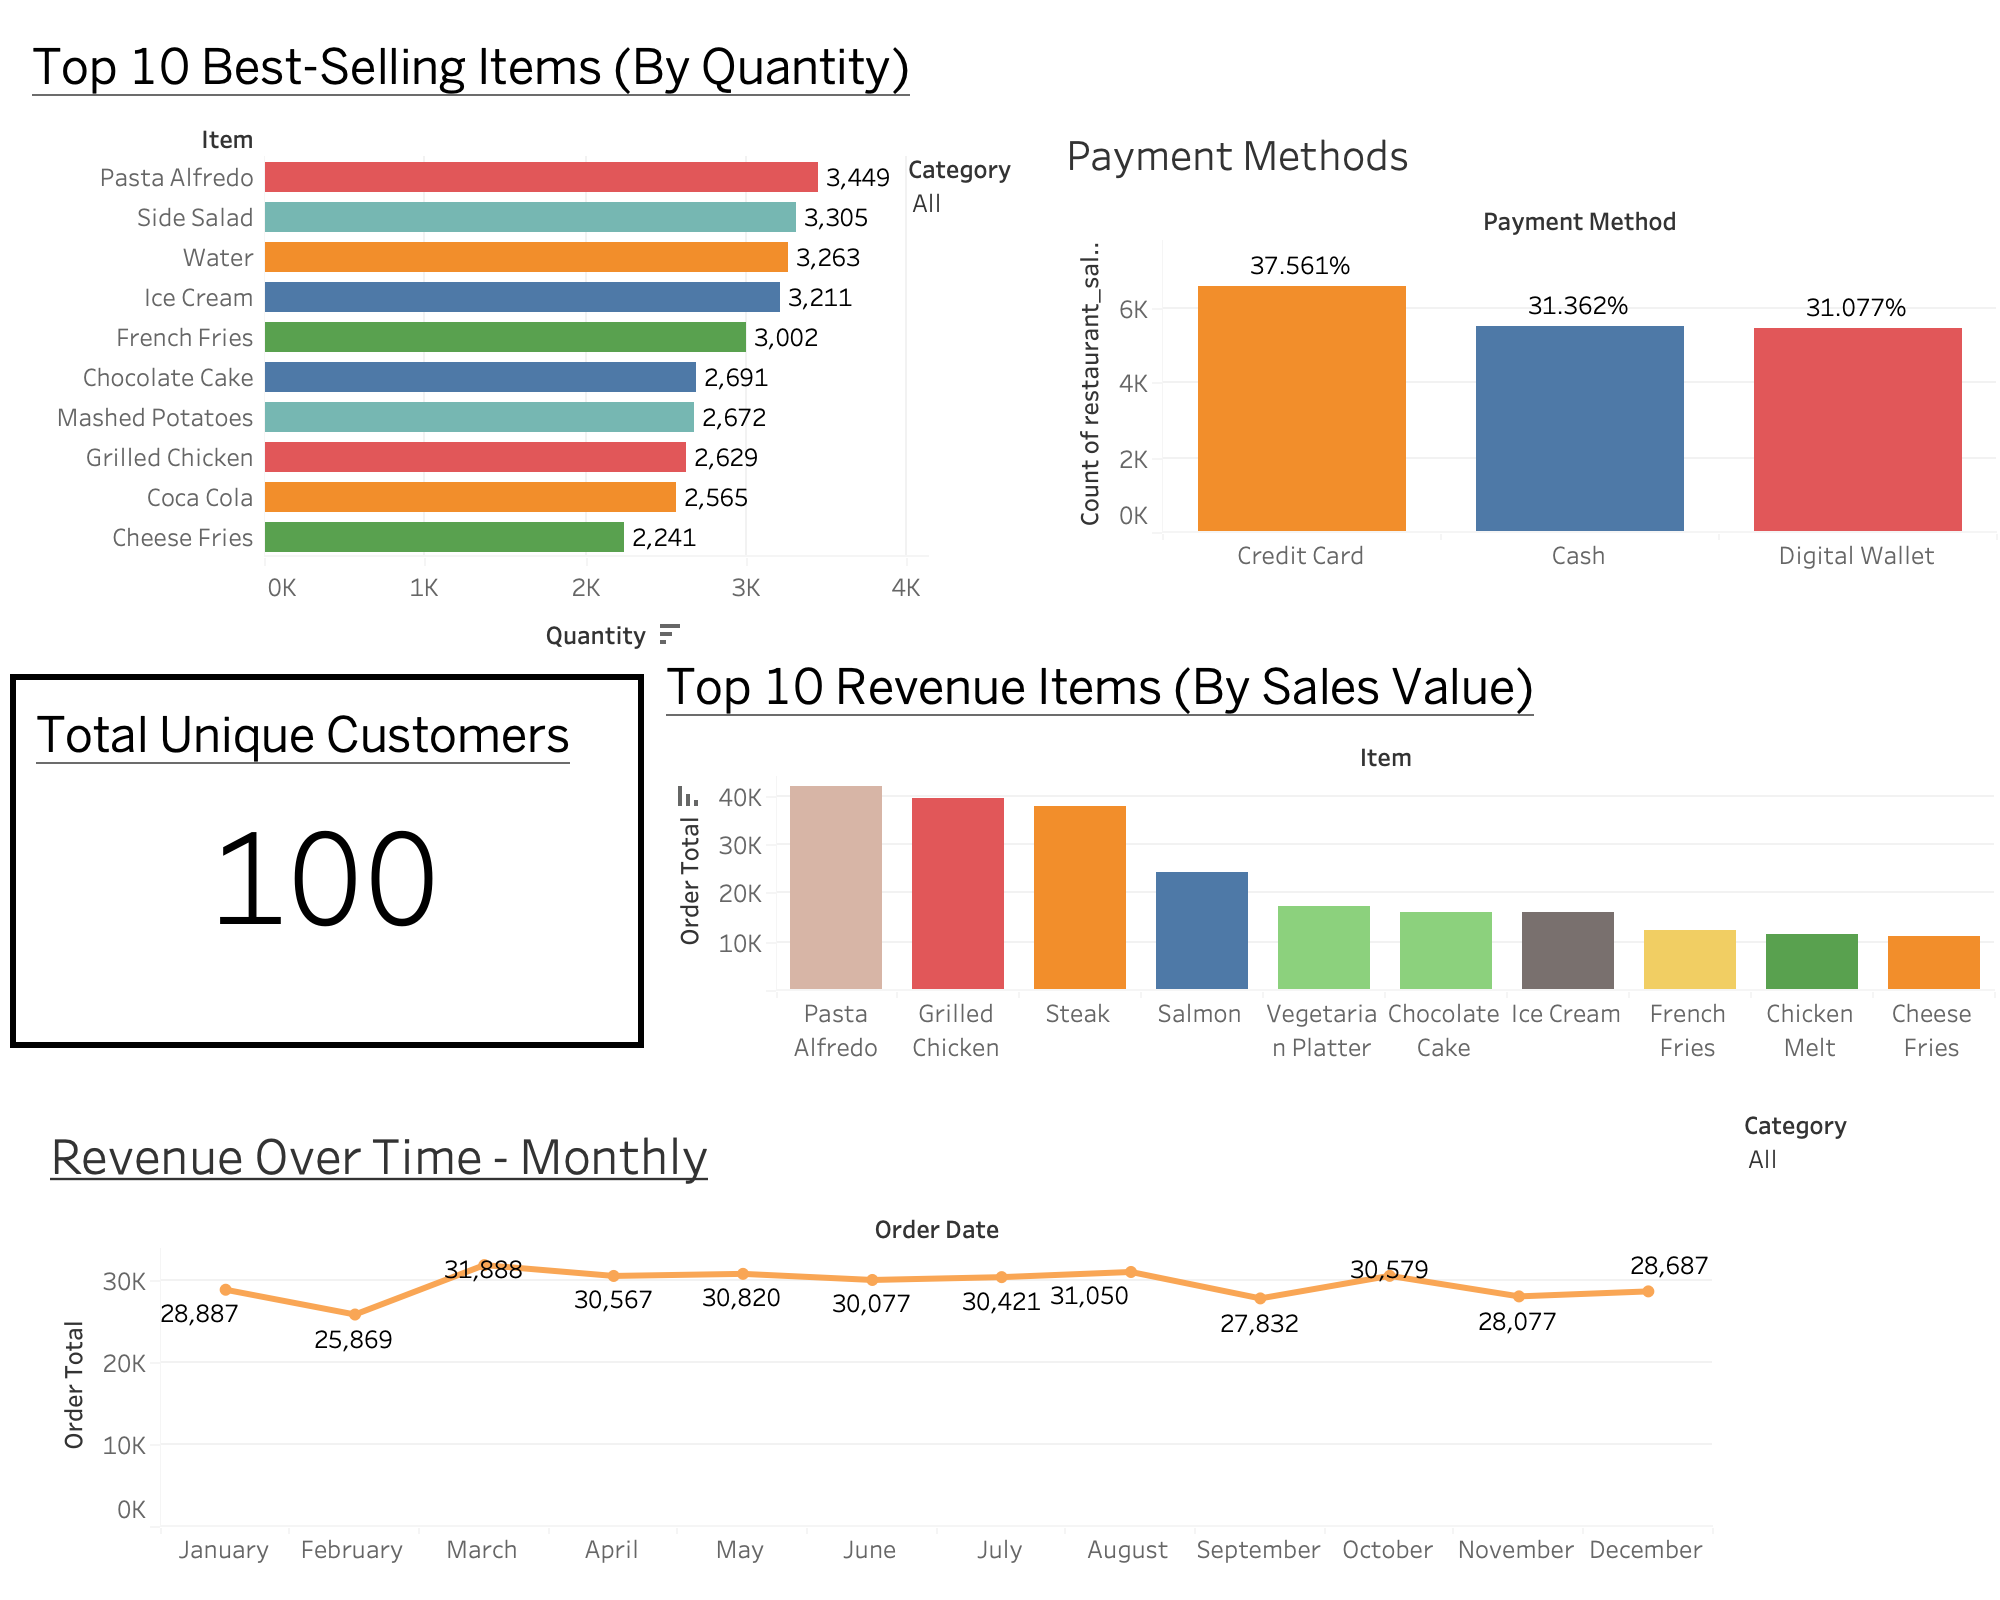

Layout of this report page (visuals, bound fields, positions):
{"tool":"tableau","page":{"name":"Restaurant Performance Overview","canvas":[1000,800],"ordinal":0},"visuals":[{"type":"worksheet","title":"Top 10 Best-Selling Items","mark":"Automatic","rows":["Item"],"cols":["Quantity"],"box":[8,8,984,784]},{"type":"worksheet","title":"Payment Methods","mark":"Automatic","rows":["restaurant_sales_data_cleaned.csv_6E5E5E9D201D4BF5B3C01170CD"],"cols":["Payment Method"],"box":[529,57,469,249]},{"type":"filter","title":"Top 10 Best-Selling Items","param":"[federated.1ptv2zo07602cg19s6kxc0ypetem].[none:Category:nk]","box":[454,75,66,41]},{"type":"worksheet","title":"Top 10 Revenue Items","mark":"Automatic","rows":["Order Total"],"cols":["Item"],"box":[329,322,668,213]},{"type":"worksheet","title":"Unique Customers","mark":"Automatic","box":[0,332,327,197]},{"type":"filter","title":"Revenue Over Time","param":"[federated.1ptv2zo07602cg19s6kxc0ypetem].[none:Category:nk]","box":[872,553,95,138]},{"type":"worksheet","title":"Revenue Over Time","mark":"Automatic","rows":["Order Total"],"cols":["Order Date"],"box":[21,555,835,229]}]}

Visuals, with their boxes in screenshot pixels (x1, y1, x2, y2), scaled from the page's 1000x800 canvas onto the 2000x1600 screenshot:
"Top 10 Best-Selling Items" worksheet: 16, 16, 1984, 1584
"Payment Methods" worksheet: 1058, 114, 1996, 612
"Top 10 Best-Selling Items" filter: 908, 150, 1040, 232
"Top 10 Revenue Items" worksheet: 658, 644, 1994, 1070
"Unique Customers" worksheet: 0, 664, 654, 1058
"Revenue Over Time" filter: 1744, 1106, 1934, 1382
"Revenue Over Time" worksheet: 42, 1110, 1712, 1568
